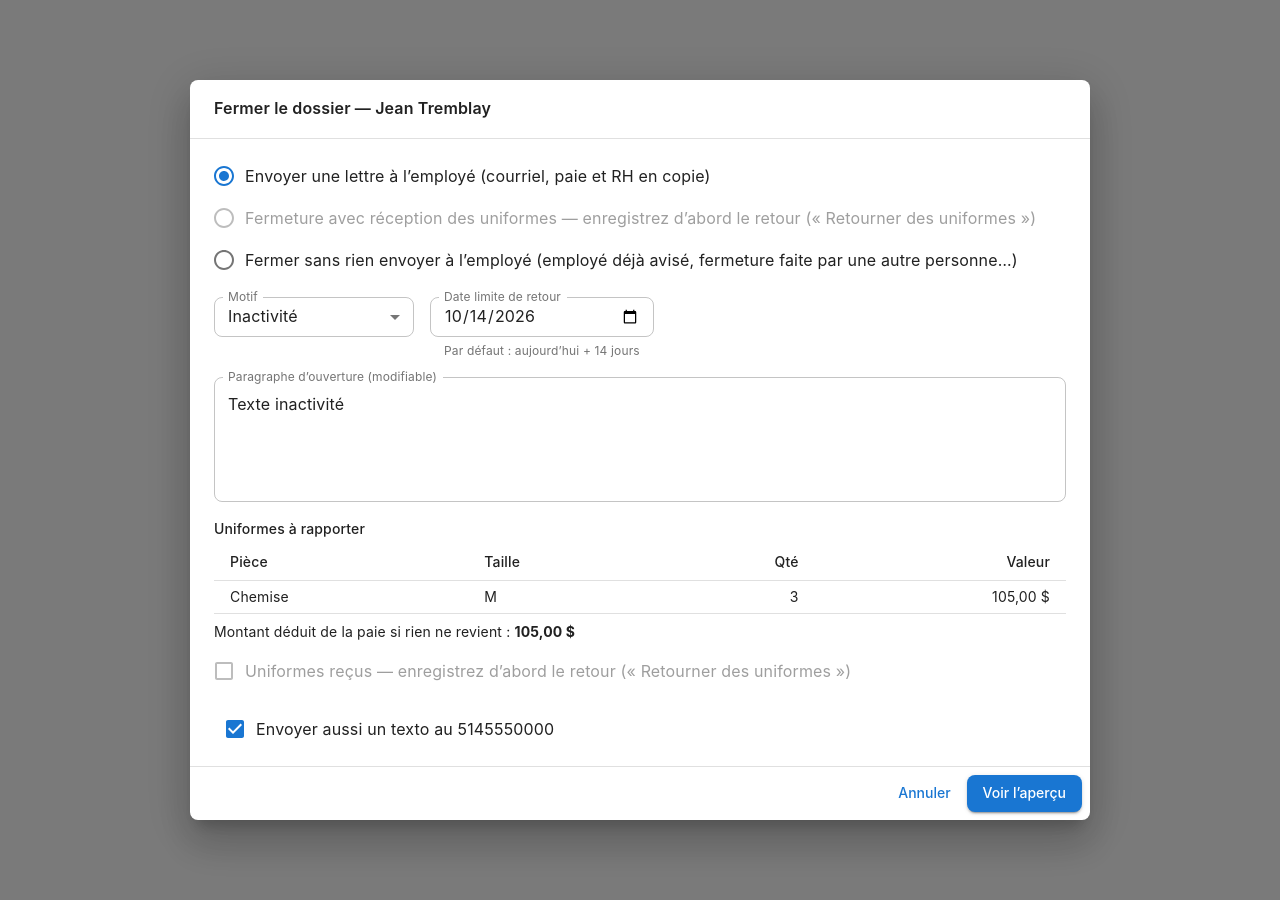
FileClosureDialog › pré-remplit motif, date +14 j, pièces et montant ; le motif change le paragraphe
This screenshot has width=1280, height=900.
Expected: the date field labelled "Date limite de retour" holds "2026-10-14", [430,297,654,337]
Expected: the text box labelled "Paragraphe d’ouverture (modifiable)" holds "Texte inactivité", [228,393,1052,485]
Click the dropdown named "Motif".
click(263, 316)  # box [228,306,298,326]
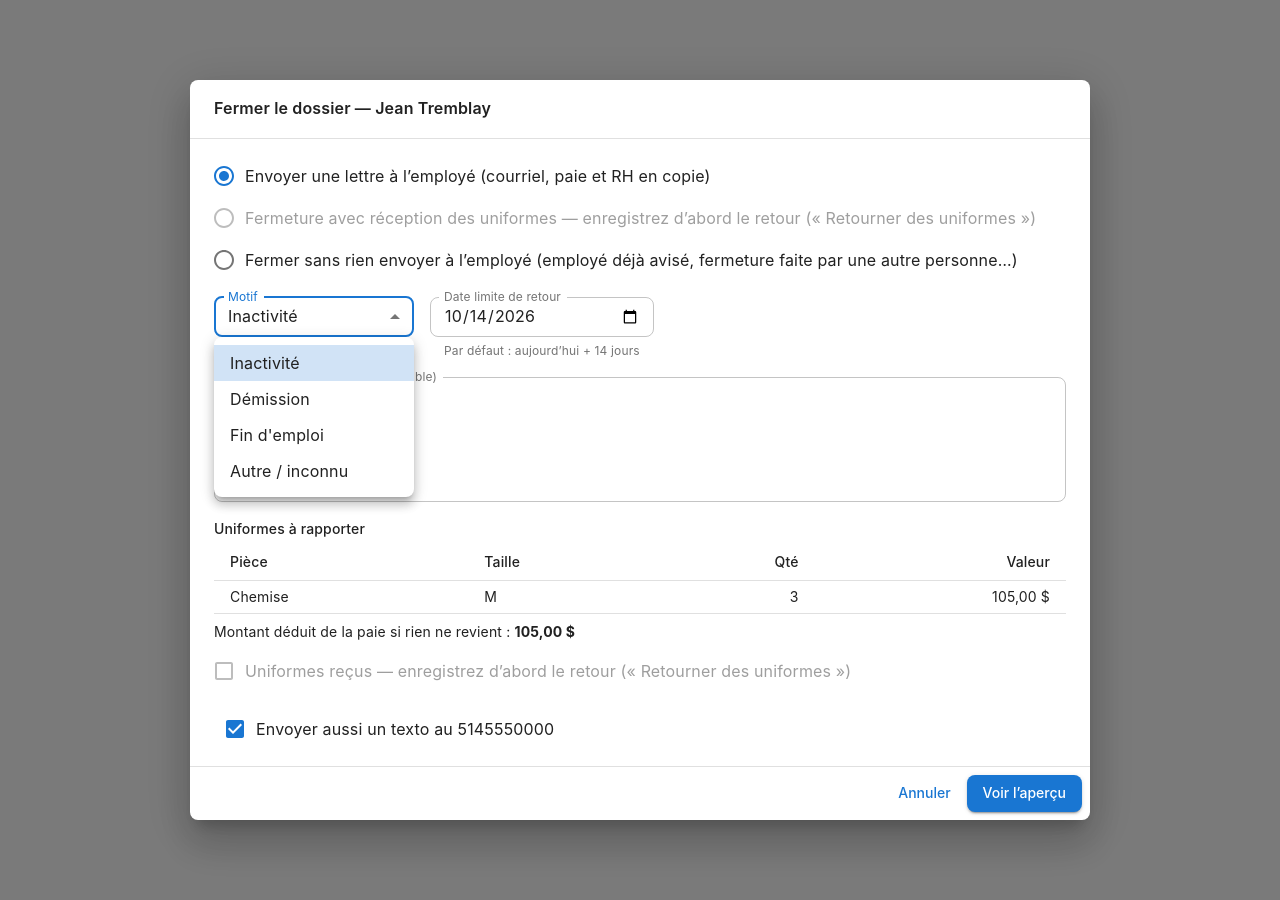
Click the option "Démission".
click(270, 399)  # box [230,389,310,409]
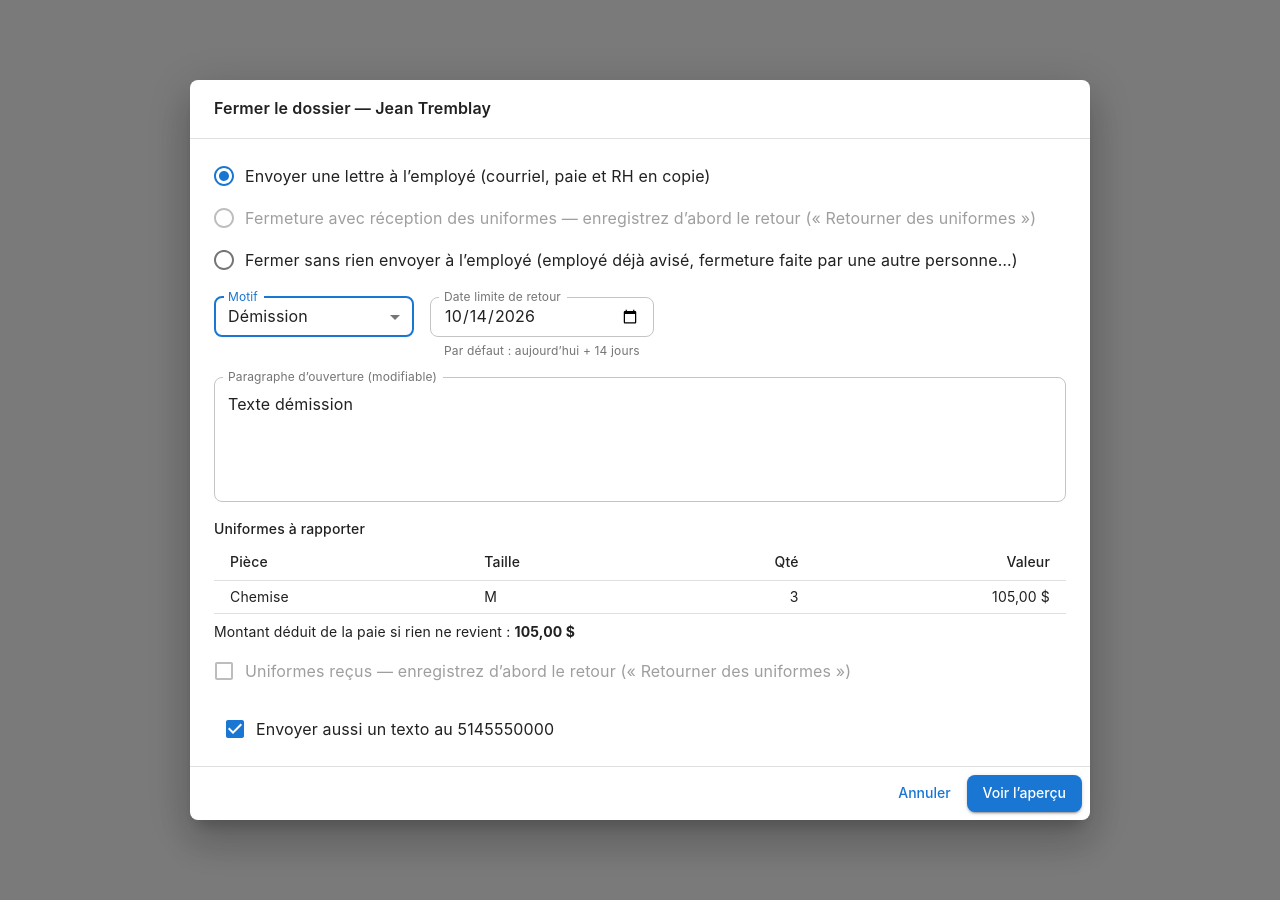
Now the text box labelled "Paragraphe d’ouverture (modifiable)" holds "Texte démission", box [228,393,1052,485]
